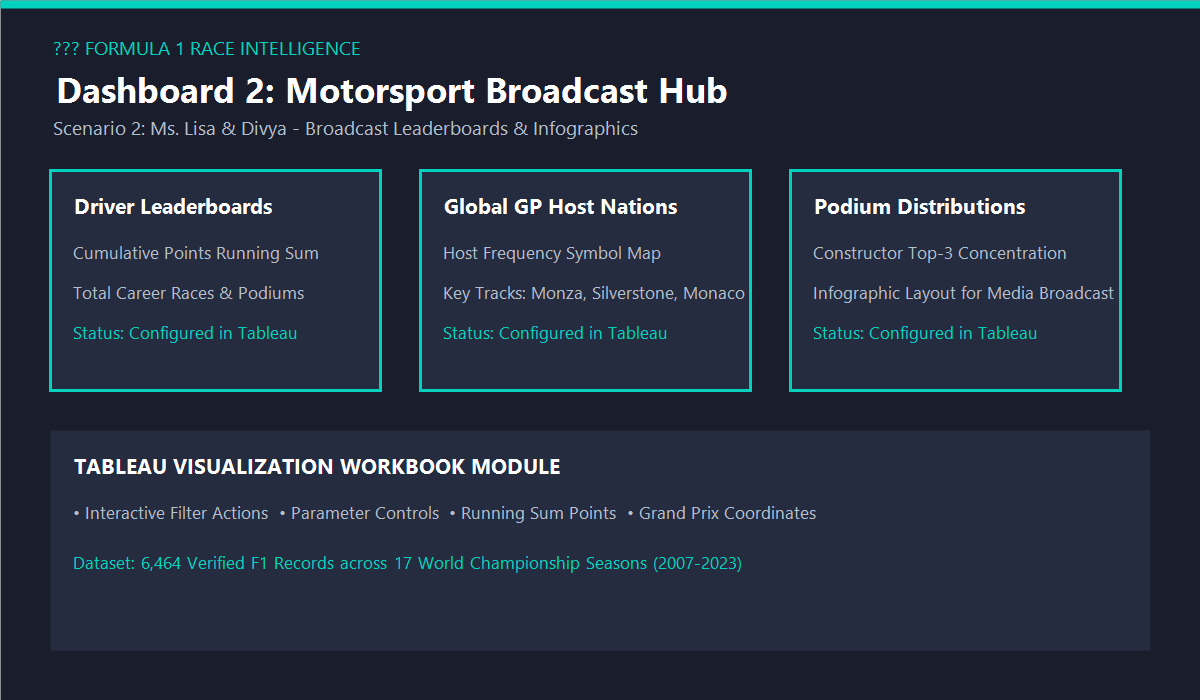

The dashboard page shown, as its layout file describes it:
{"tool":"tableau","page":{"name":"Dashboard 2 - Broadcast Analyst Hub","canvas":[1200,800],"ordinal":1},"visuals":[{"type":"worksheet","title":"Driver Performance Leaderboard","mark":"Bar","rows":["Driver_Name"],"cols":["Points"],"box":[0,0,1200,400]},{"type":"worksheet","title":"Grand Prix Host Countries","mark":"Automatic","rows":["Country"],"cols":["Race_ID"],"box":[0,400,1200,400]}]}

Visuals, with their boxes on the page's 1200x800 design canvas (x1, y1, x2, y2). These are canvas units, not pixel positions in the 1200x700 screenshot, which may show the page scaled, cropped or inside an application window:
"Driver Performance Leaderboard" worksheet (Bar marks): 0, 0, 1200, 400
"Grand Prix Host Countries" worksheet: 0, 400, 1200, 800
